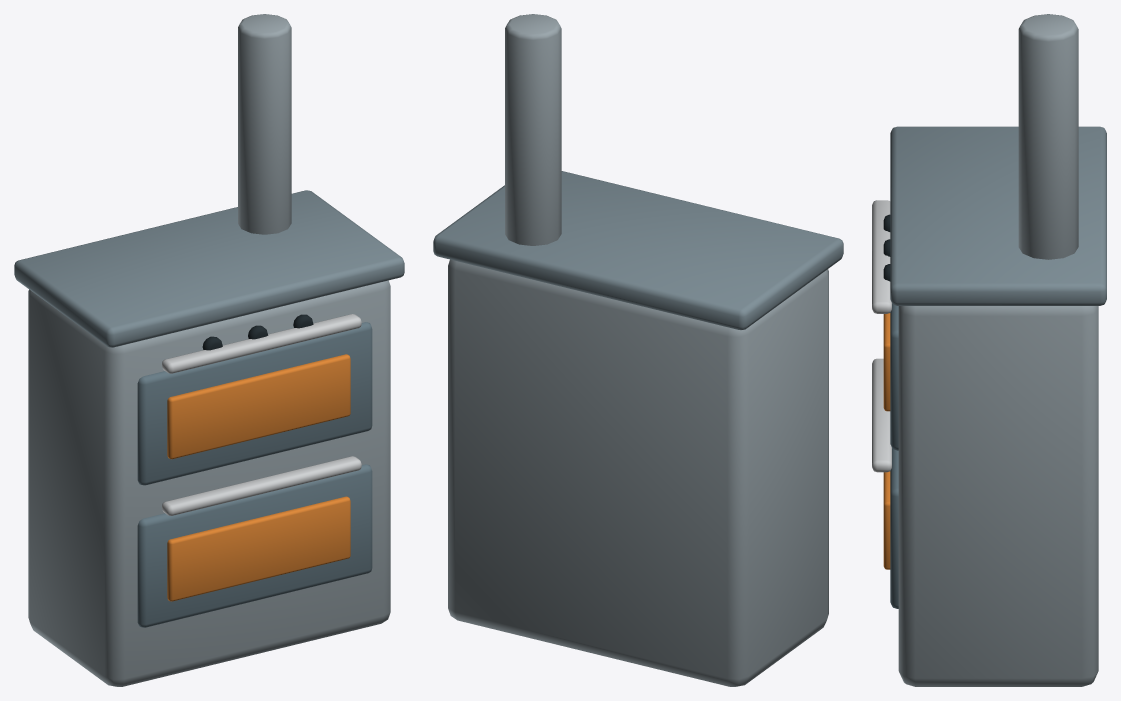
The model's file is f_oven.glb.
The picture shows the model from 3 angles, left to right: view 1: azimuth 30°, elevation 25°; view 2: azimuth 150°, elevation 25°; view 3: azimuth 270°, elevation 25°; orthographic projection. The views are drawn at different scales.
Visible parts, largest first — view 1: f_oven, Glass_f_oven; view 2: f_oven; view 3: f_oven, Glass_f_oven.
Part boxes in pixels (bbox=[...]): f_oven: bbox=[14, 14, 404, 686]; Glass_f_oven: bbox=[167, 354, 350, 601]; f_oven: bbox=[433, 14, 843, 686]; f_oven: bbox=[872, 14, 1106, 686]; Glass_f_oven: bbox=[883, 313, 890, 569].
Size of the model in its own units: 2.3 by 4.2 by 1.41.
